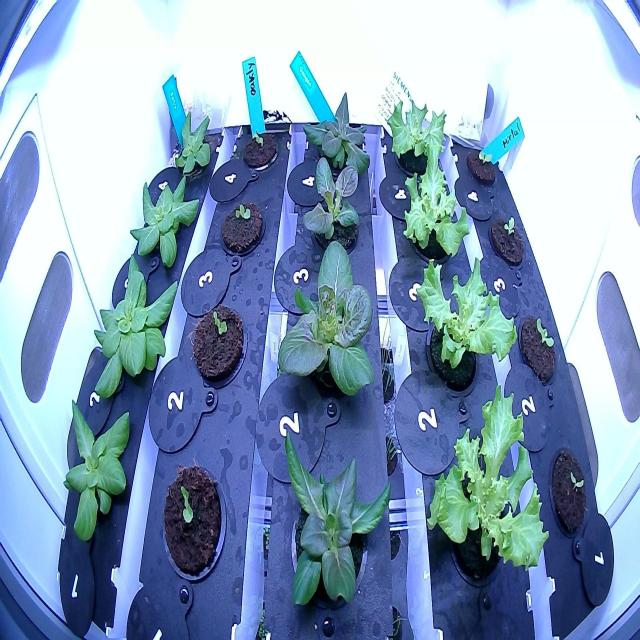germination: (156, 449, 230, 589), (187, 290, 251, 392), (547, 440, 591, 541), (513, 309, 559, 390), (218, 192, 266, 260), (484, 204, 526, 270), (236, 121, 280, 174), (464, 138, 500, 191)
young: (272, 417, 396, 625), (269, 227, 381, 415), (86, 246, 182, 411), (54, 392, 136, 548), (120, 166, 209, 272), (299, 86, 377, 194), (296, 152, 366, 264), (162, 102, 218, 189)
